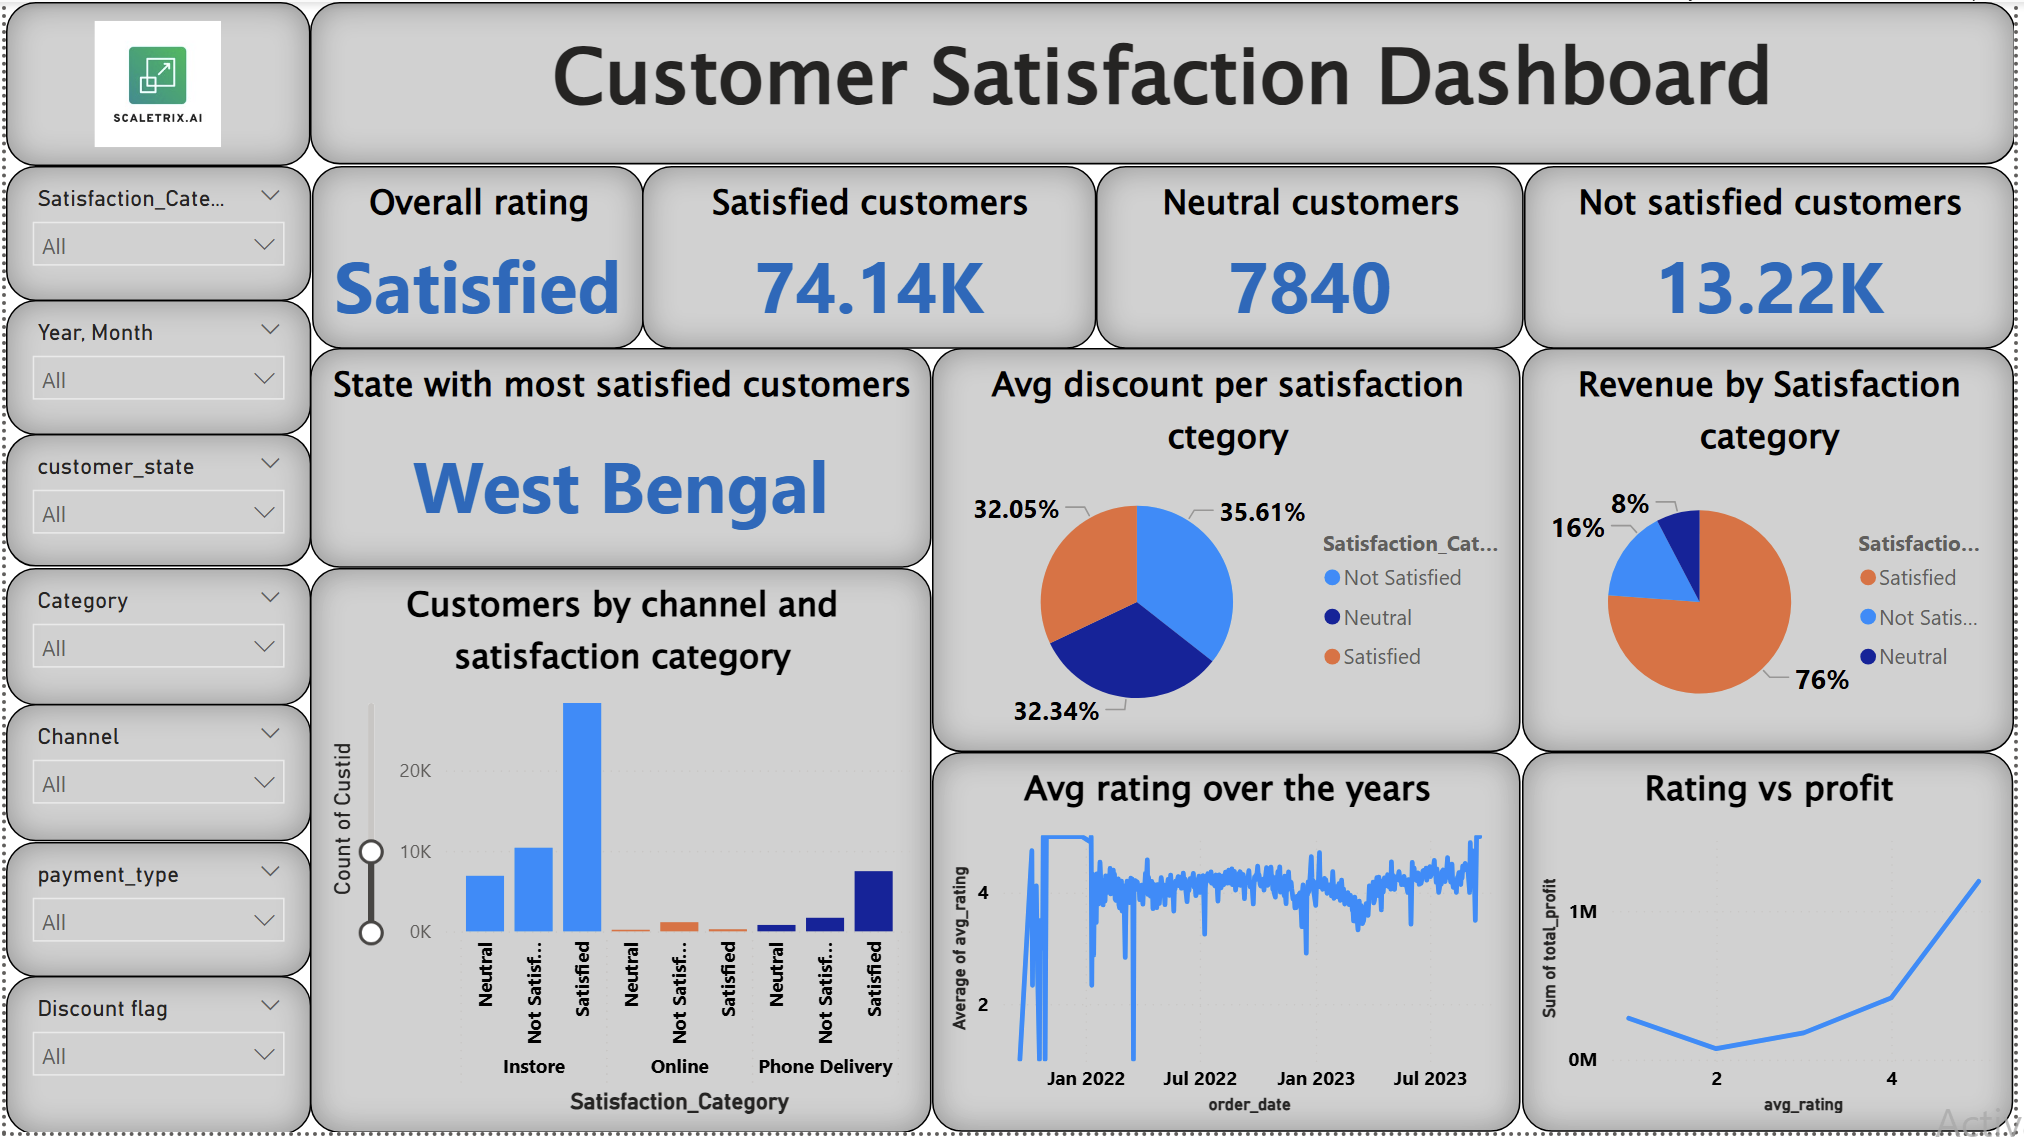

This screenshot's page, from the dashboard's own definition file:
{"tool":"powerbi","page":{"name":"Customer satisfaction dash","canvas":[1280,720],"ordinal":4},"visuals":[{"type":"image","box":[0,0,193.8,104.7],"z":0},{"type":"textbox","box":[193.3,0,1086.7,103.3],"z":1000},{"type":"slicer","fields":{"Values":["Order360new.Satisfaction_Category"]},"box":[0,103.9,194.3,85.9],"z":2000},{"type":"slicer","title":"Timeline","fields":{"Values":["Order360new.order_date.Variation.Date Hierarchy.Year","Order360new.order_date.Variation.Date Hierarchy.Month"]},"box":[0,189.8,194.3,85.9],"z":3000},{"type":"slicer","fields":{"Values":["Customer360new.customer_state"]},"box":[0,275.6,194.3,84.4],"z":4000},{"type":"slicer","fields":{"Values":["Productsinfo.Category"]},"box":[0,360,194.3,87.4],"z":5000},{"type":"slicer","fields":{"Values":["Order360new.Channel"]},"box":[0,447.4,194.3,87.4],"z":6000},{"type":"slicer","fields":{"Values":["Order360new.payment_type"]},"box":[0,534.7,194.3,85.9],"z":7000},{"type":"slicer","fields":{"Values":["Customer360new.Discount flag"]},"box":[0,620.6,194.3,100.9],"z":8000},{"type":"card","title":"Overall rating","fields":{"Values":["Min(Order360new.Satisfaction_Category)"]},"box":[194.4,104.1,211.3,116.4],"z":9000},{"type":"card","title":"Satisfied customers","fields":{"Values":["CountNonNull(Order360new.Customer_id)"]},"box":[405.7,104.1,289.4,116.4],"z":10000},{"type":"card","title":"Neutral customers","fields":{"Values":["CountNonNull(Order360new.Customer_id)"]},"box":[695.1,104.1,272.5,116.4],"z":11000},{"type":"card","title":"Not satisfied customers","fields":{"Values":["CountNonNull(Order360new.Customer_id)"]},"box":[967.7,104.1,312.3,116.4],"z":12000},{"type":"card","title":"State with most satisfied customers","fields":{"Values":["Customer360new.Most Satisfied City"]},"box":[194.3,219.9,396.2,140.1],"z":13000},{"type":"pieChart","title":"Revenue by Satisfaction category","fields":{"Category":["Customer360new.Satisfaction_Category"],"Y":["Sum(Customer360new.total_amount_spent)"]},"box":[965.5,219.9,313.3,257.6],"z":14000},{"type":"pieChart","title":"Avg discount per satisfaction ctegory","fields":{"Category":["Customer360new.Satisfaction_Category"],"Y":["Avg(Customer360new.total_discount)"]},"box":[590.5,219.9,375.1,257.6],"z":15000},{"type":"clusteredColumnChart","title":"Customers by channel and satisfaction category","fields":{"Category":["Order360new.Channel","Customer360new.Satisfaction_Category"],"Y":["CountNonNull(Customer360new.Custid)"]},"box":[194.3,360,396.2,360],"z":16000},{"type":"lineChart","title":"Avg rating over the years","fields":{"Category":["Order360new.order_date Hierarchy.order_date"],"Y":["Avg(Order360new.avg_rating)"]},"box":[590,478,375,242],"z":17000},{"type":"lineChart","title":"Rating vs profit","fields":{"Category":["Order360new.avg_rating"],"Y":["Sum(Order360new.total_profit)"]},"box":[966,478,313,242],"z":18000}]}

Visuals, with their boxes in screenshot pixels (x1, y1, x2, y2), scaled from the page's 1280x720 canvas onto the 2024x1138 screenshot:
image: pyautogui.locateOnScreen(0, 0, 306, 165)
textbox: pyautogui.locateOnScreen(306, 0, 2023, 163)
slicer - Order360new.Satisfaction_Category: pyautogui.locateOnScreen(0, 164, 307, 300)
"Timeline" slicer: pyautogui.locateOnScreen(0, 300, 307, 436)
slicer - Customer360new.customer_state: pyautogui.locateOnScreen(0, 436, 307, 569)
slicer - Productsinfo.Category: pyautogui.locateOnScreen(0, 569, 307, 707)
slicer - Order360new.Channel: pyautogui.locateOnScreen(0, 707, 307, 845)
slicer - Order360new.payment_type: pyautogui.locateOnScreen(0, 845, 307, 981)
slicer - Customer360new.Discount flag: pyautogui.locateOnScreen(0, 981, 307, 1137)
"Overall rating" card: pyautogui.locateOnScreen(307, 165, 642, 349)
"Satisfied customers" card: pyautogui.locateOnScreen(642, 165, 1099, 349)
"Neutral customers" card: pyautogui.locateOnScreen(1099, 165, 1530, 349)
"Not satisfied customers" card: pyautogui.locateOnScreen(1530, 165, 2023, 349)
"State with most satisfied customers" card: pyautogui.locateOnScreen(307, 348, 934, 569)
"Revenue by Satisfaction category" pieChart: pyautogui.locateOnScreen(1527, 348, 2022, 755)
"Avg discount per satisfaction ctegory" pieChart: pyautogui.locateOnScreen(934, 348, 1527, 755)
"Customers by channel and satisfaction category" clusteredColumnChart: pyautogui.locateOnScreen(307, 569, 934, 1137)
"Avg rating over the years" lineChart: pyautogui.locateOnScreen(933, 756, 1526, 1137)
"Rating vs profit" lineChart: pyautogui.locateOnScreen(1527, 756, 2022, 1137)
